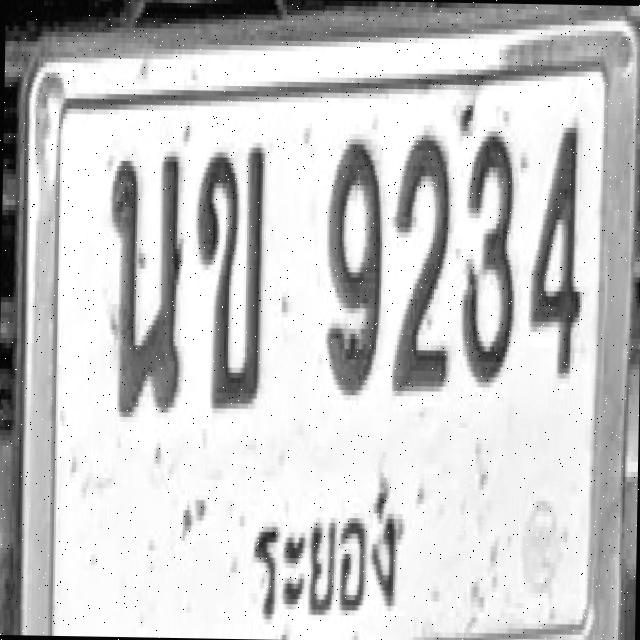11KhorKhai: (192, 142, 266, 408)
2: (390, 130, 452, 392)
3: (459, 125, 516, 382)
34NorNu: (106, 148, 184, 414)
4: (528, 118, 584, 376)
9: (324, 136, 383, 392)
Rayong: (230, 452, 412, 637)
